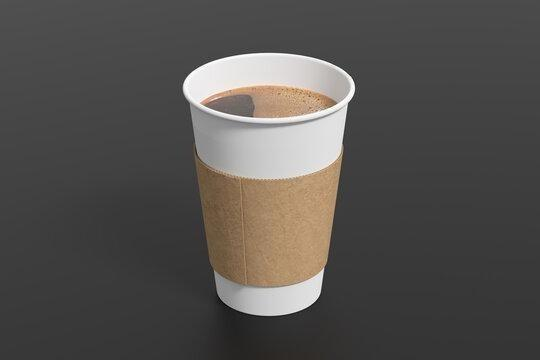cup-disposable: (180, 49, 357, 319)
